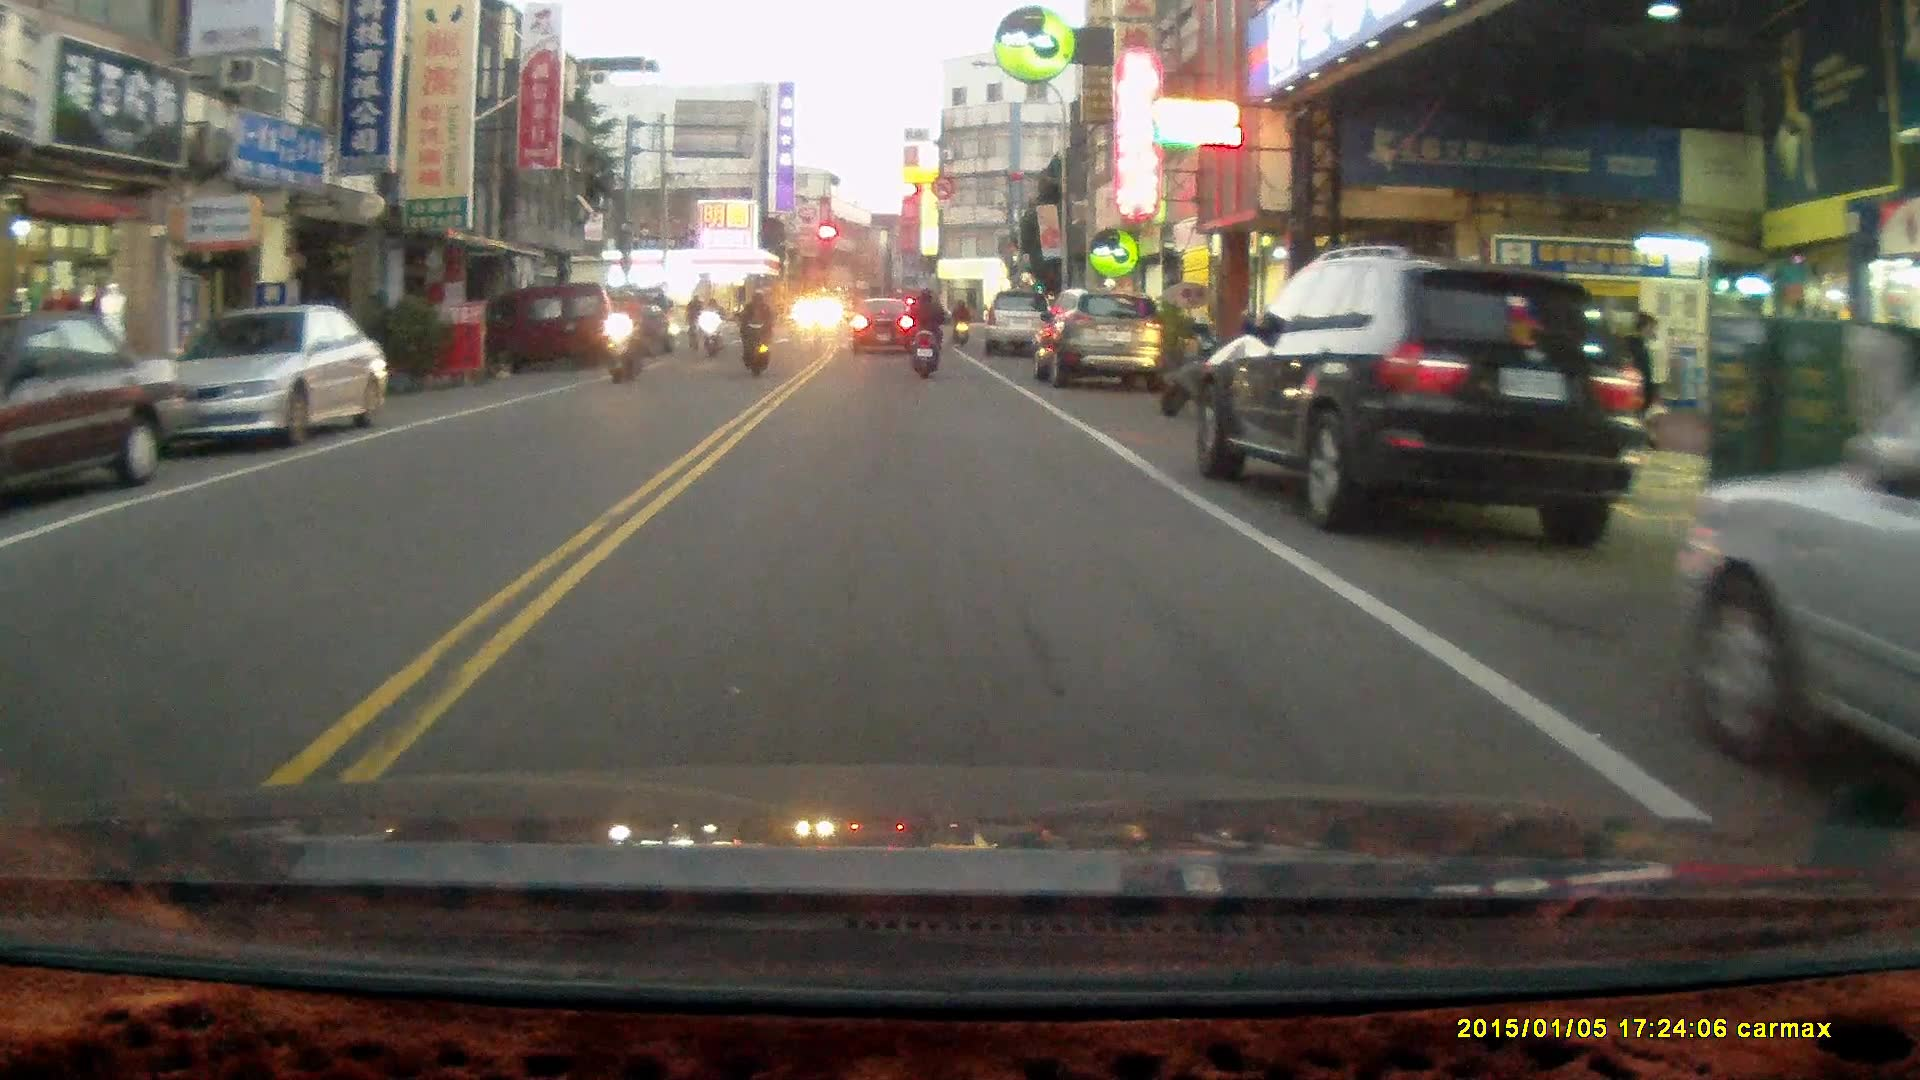pedestrian: (1613, 308, 1659, 506)
rider: (605, 281, 645, 379), (904, 285, 945, 379), (736, 286, 771, 377), (698, 294, 724, 358), (685, 291, 706, 356), (947, 294, 968, 343)
vehicle: (1193, 251, 1642, 550), (1665, 352, 1920, 825), (135, 302, 399, 449), (5, 307, 194, 509), (1032, 290, 1165, 390), (513, 282, 629, 366), (978, 290, 1064, 363)
